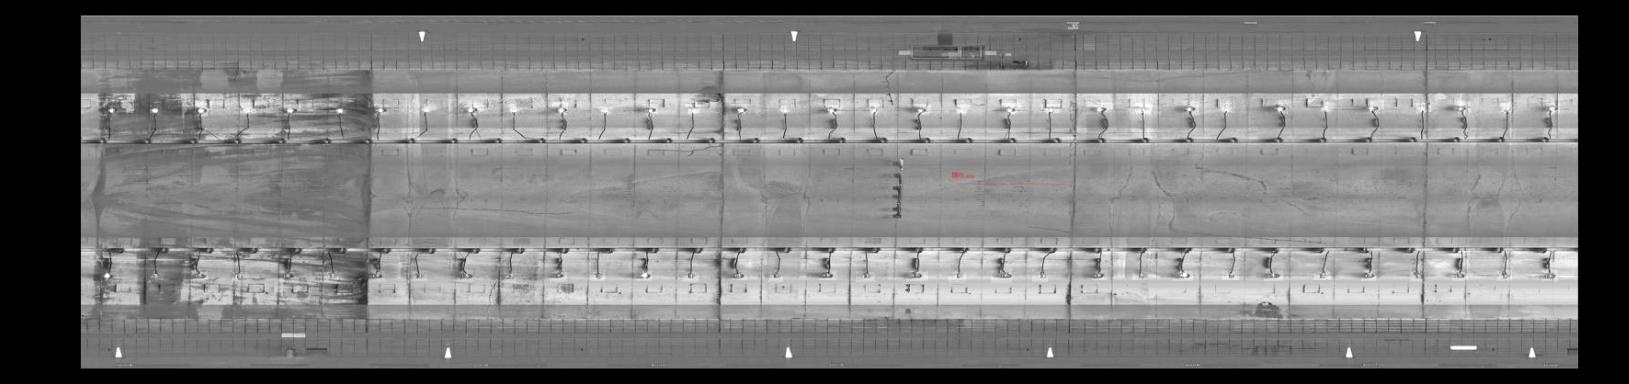light: (192, 101, 212, 117), (991, 268, 1012, 283), (1366, 100, 1384, 116), (1273, 100, 1291, 115), (365, 269, 385, 282), (1134, 103, 1153, 117), (464, 103, 484, 116), (100, 269, 119, 282), (1182, 101, 1199, 116), (238, 103, 256, 117), (949, 269, 966, 283), (906, 270, 928, 281), (282, 104, 301, 116), (278, 270, 298, 282), (1173, 269, 1193, 281), (552, 102, 568, 116), (1032, 268, 1048, 282), (550, 269, 567, 282), (682, 269, 699, 282), (1002, 103, 1022, 114), (1041, 104, 1060, 116), (231, 270, 249, 282), (454, 270, 473, 282), (856, 270, 875, 282), (1456, 101, 1471, 115), (146, 102, 162, 116), (145, 270, 167, 280), (1410, 268, 1425, 282), (1318, 102, 1335, 115), (955, 104, 971, 117), (1095, 103, 1113, 115), (419, 102, 436, 114), (912, 104, 931, 115), (732, 104, 751, 115), (1264, 270, 1283, 281), (1416, 103, 1431, 117), (1220, 103, 1236, 115), (685, 103, 701, 115), (103, 104, 119, 116), (1542, 270, 1558, 282), (190, 269, 208, 280), (1222, 269, 1239, 280), (503, 270, 517, 283), (408, 271, 427, 281), (819, 270, 837, 280), (1313, 270, 1331, 280), (374, 104, 389, 116), (1497, 270, 1512, 282), (1452, 270, 1468, 281), (823, 105, 842, 114), (636, 271, 652, 281), (1091, 270, 1107, 280), (1500, 103, 1513, 116), (1546, 103, 1560, 114), (324, 271, 339, 282), (590, 270, 605, 281), (1361, 270, 1376, 281), (332, 106, 350, 115), (768, 272, 783, 282), (508, 104, 522, 115), (732, 270, 747, 280), (597, 107, 613, 116), (1132, 271, 1148, 280), (869, 103, 880, 115), (643, 104, 658, 113), (780, 106, 793, 116)
